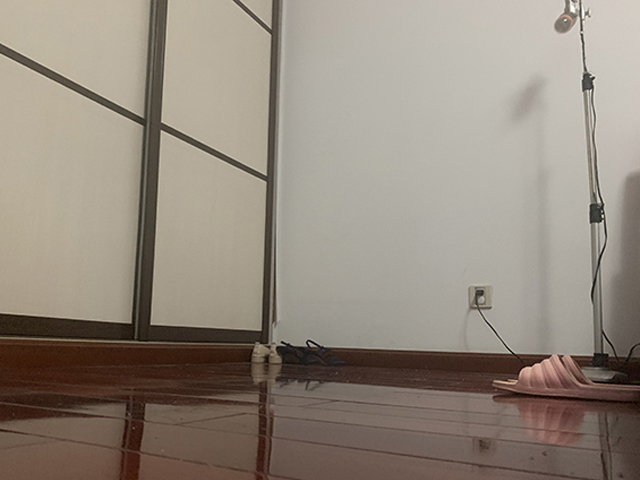cabinet: (1, 1, 284, 371)
slippers: (490, 352, 640, 405)
wire: (472, 69, 640, 384)
